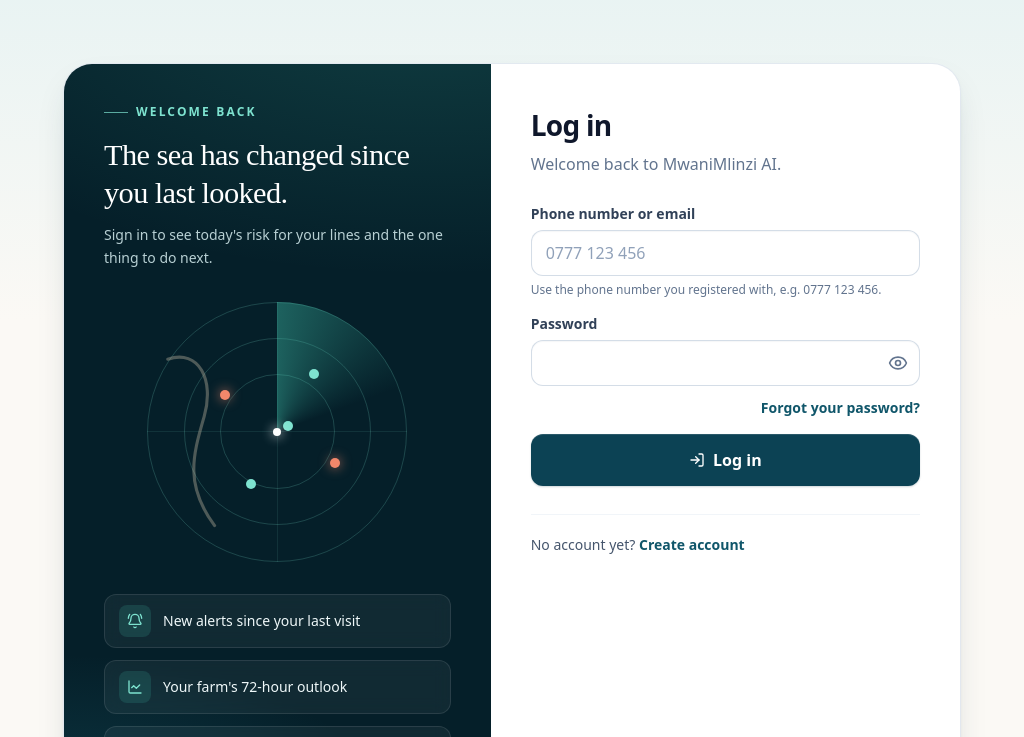
it: Login page › the eye icon shows and hides the typed password
The image size is (1024, 737).
In the password field labelled "Password": (725,363) 531,340 -> 920,386, type "Secret123"
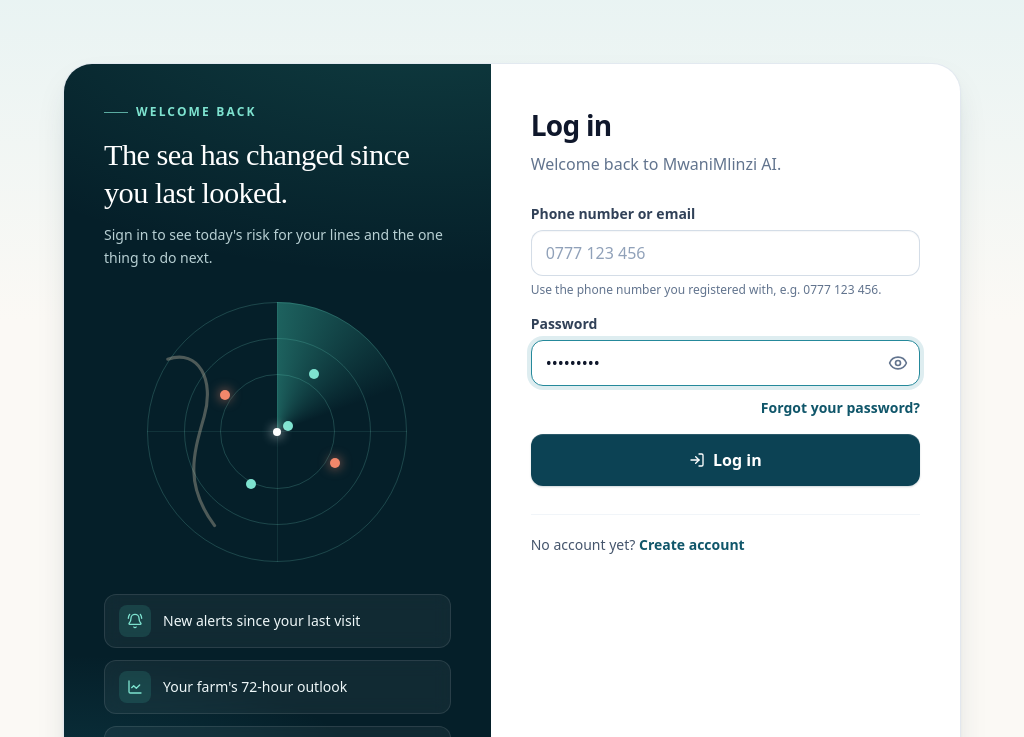
Click the button named "Show password": (898,363) 876,340 -> 920,386
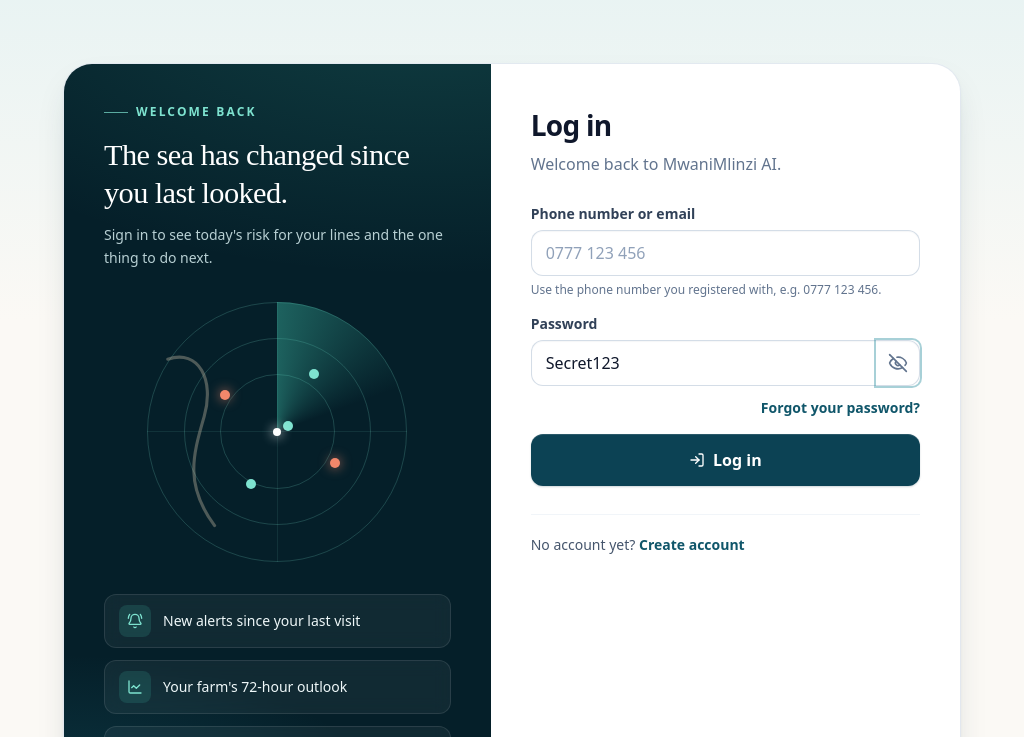
Now the field labelled "Password" shows its text, box 531,340 -> 920,386
Click the button named "Hide password": (898,363) 876,340 -> 920,386
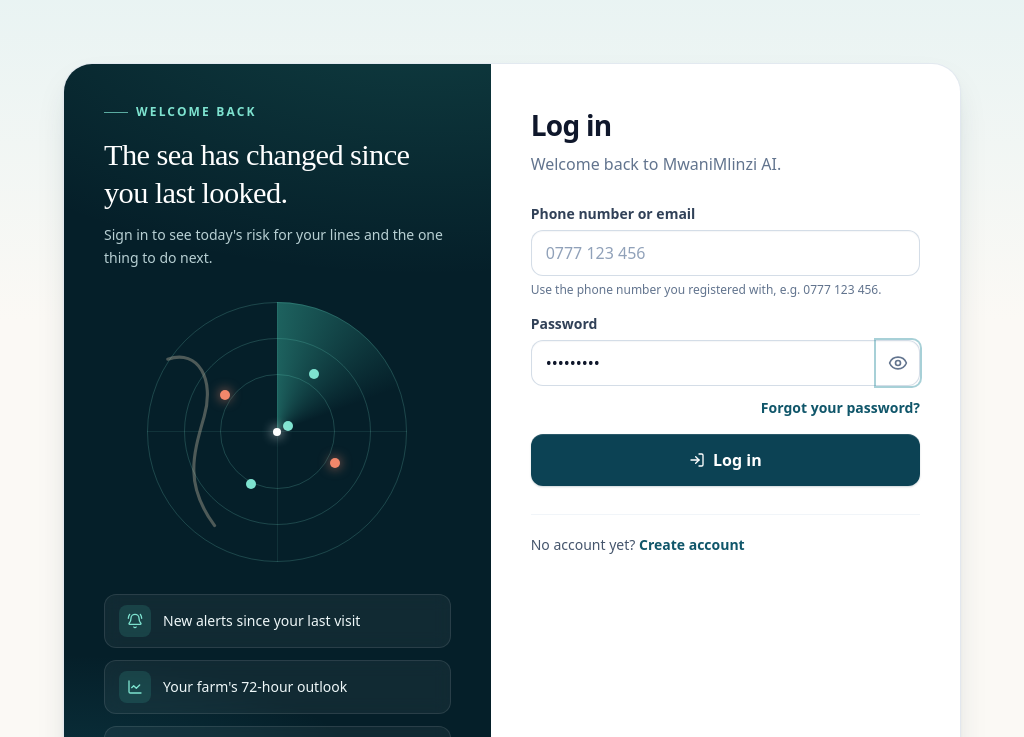
Now the password field labelled "Password" hides its text, box 531,340 -> 920,386
